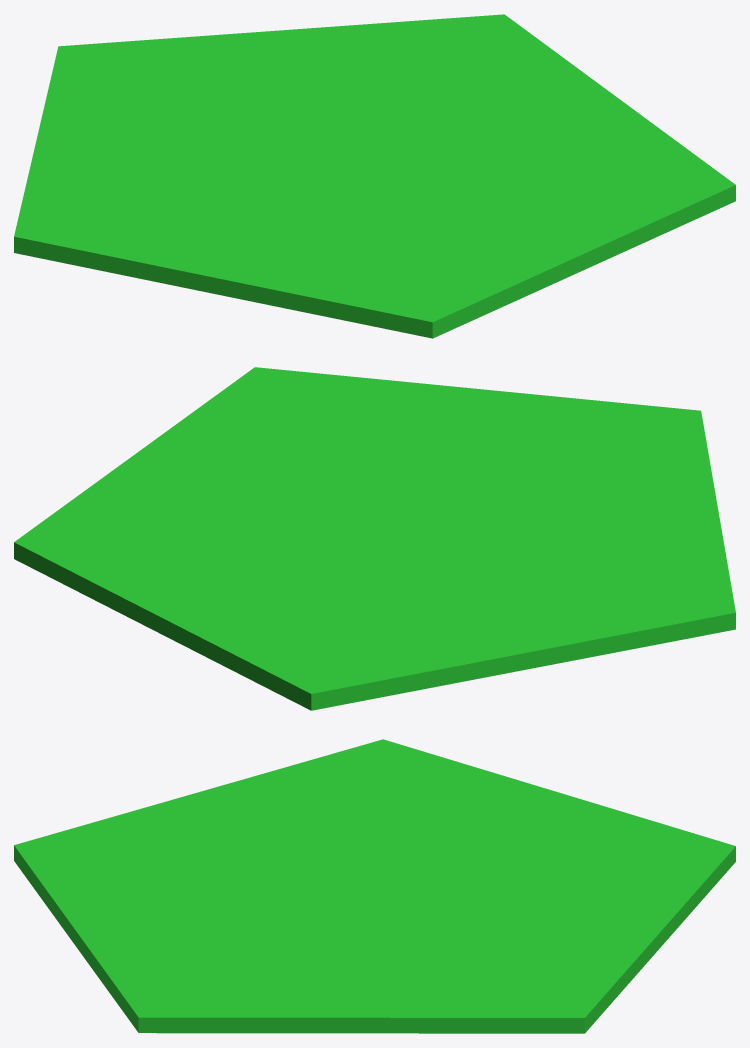
The model's file is star4.dae.
3 views of the same model, one above another, from view 1: azimuth 30°, elevation 25°; view 2: azimuth 150°, elevation 25°; view 3: azimuth 270°, elevation 25° (orthographic). The views are drawn at different scales.
Visible parts, largest first — view 1: Cylinder; view 2: Cylinder; view 3: Cylinder.
Part boxes in pixels (<box>): Cylinder: <box>14,14,735,338</box>; Cylinder: <box>14,367,735,710</box>; Cylinder: <box>14,739,735,1033</box>.
Bounding box in the file's own units: 1.91 × 2.09 × 0.05.
